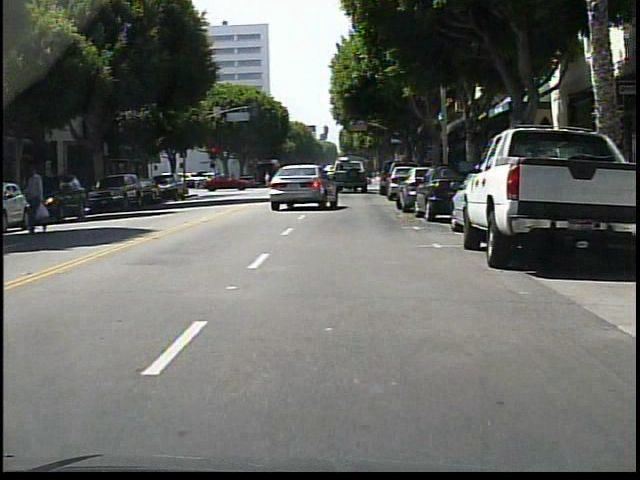person: (28, 162, 52, 237), (285, 169, 296, 192), (306, 167, 314, 192), (264, 171, 271, 187)
